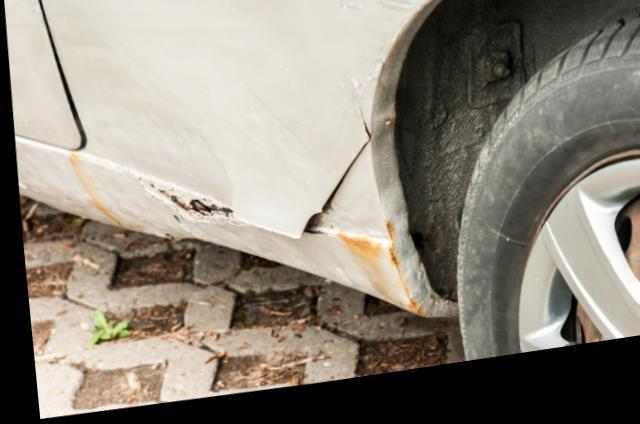crack: (138, 88, 371, 246)
